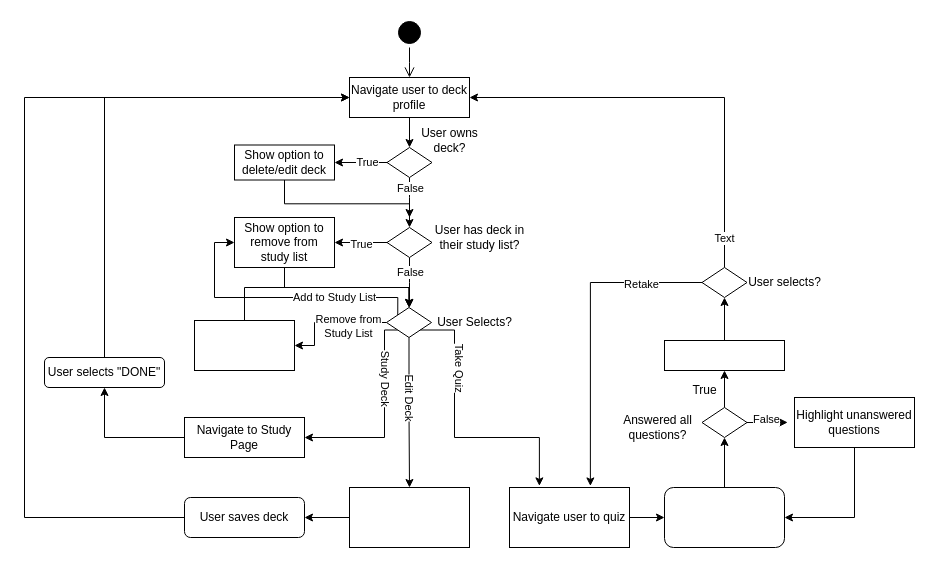
Image size: 932x565. Some labels were removed from this diagram. Each missing label, with the box of its shape:
Navigate User to Deck Editor: (348, 486, 470, 548)
Show option to add to study list: (194, 320, 294, 370)
Show results: (664, 340, 784, 370)
User clicks "DONE": (664, 486, 784, 548)
